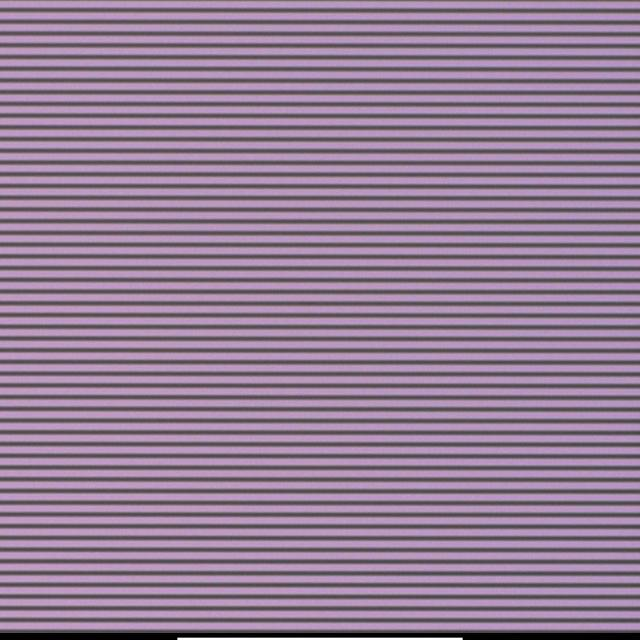03_intrusion: (325, 294, 332, 302)
